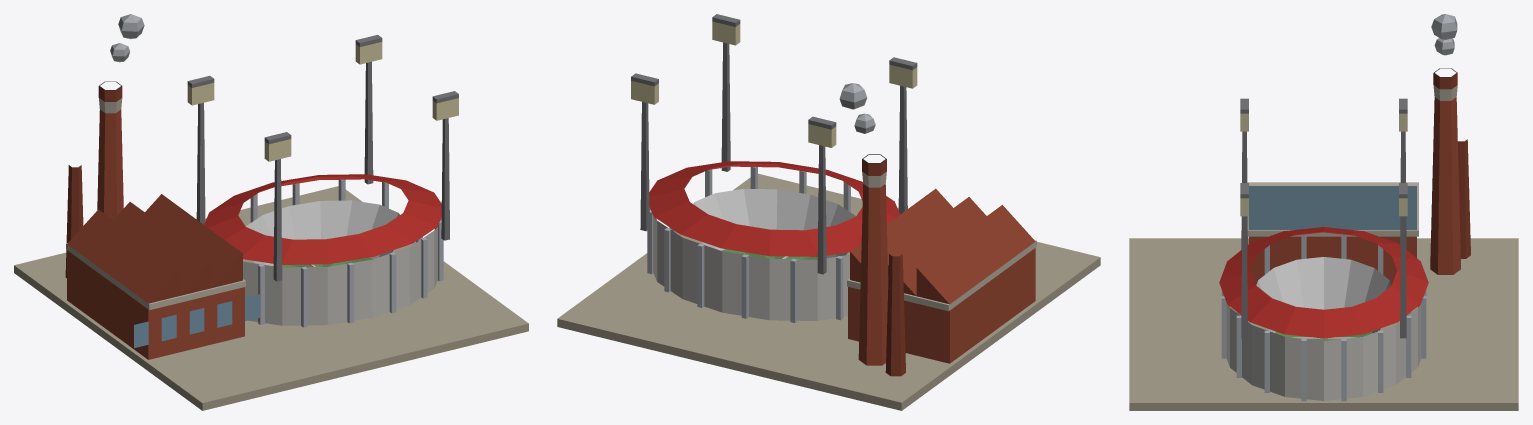
File: stade.glb
3 renders of one model, left to right at view 1: azimuth 30°, elevation 25°; view 2: azimuth 150°, elevation 25°; view 3: azimuth 270°, elevation 25°, orthographic. The views are drawn at different scales.
Visible parts, largest first — view 1: stade; view 2: stade; view 3: stade.
Boxes of the visible parts, box(x1,y1,x2,y2) form: stade: box(14, 14, 528, 410); stade: box(557, 14, 1100, 410); stade: box(1129, 14, 1518, 410).
Size of the model in its own units: 1.82 by 1.37 by 1.76.
